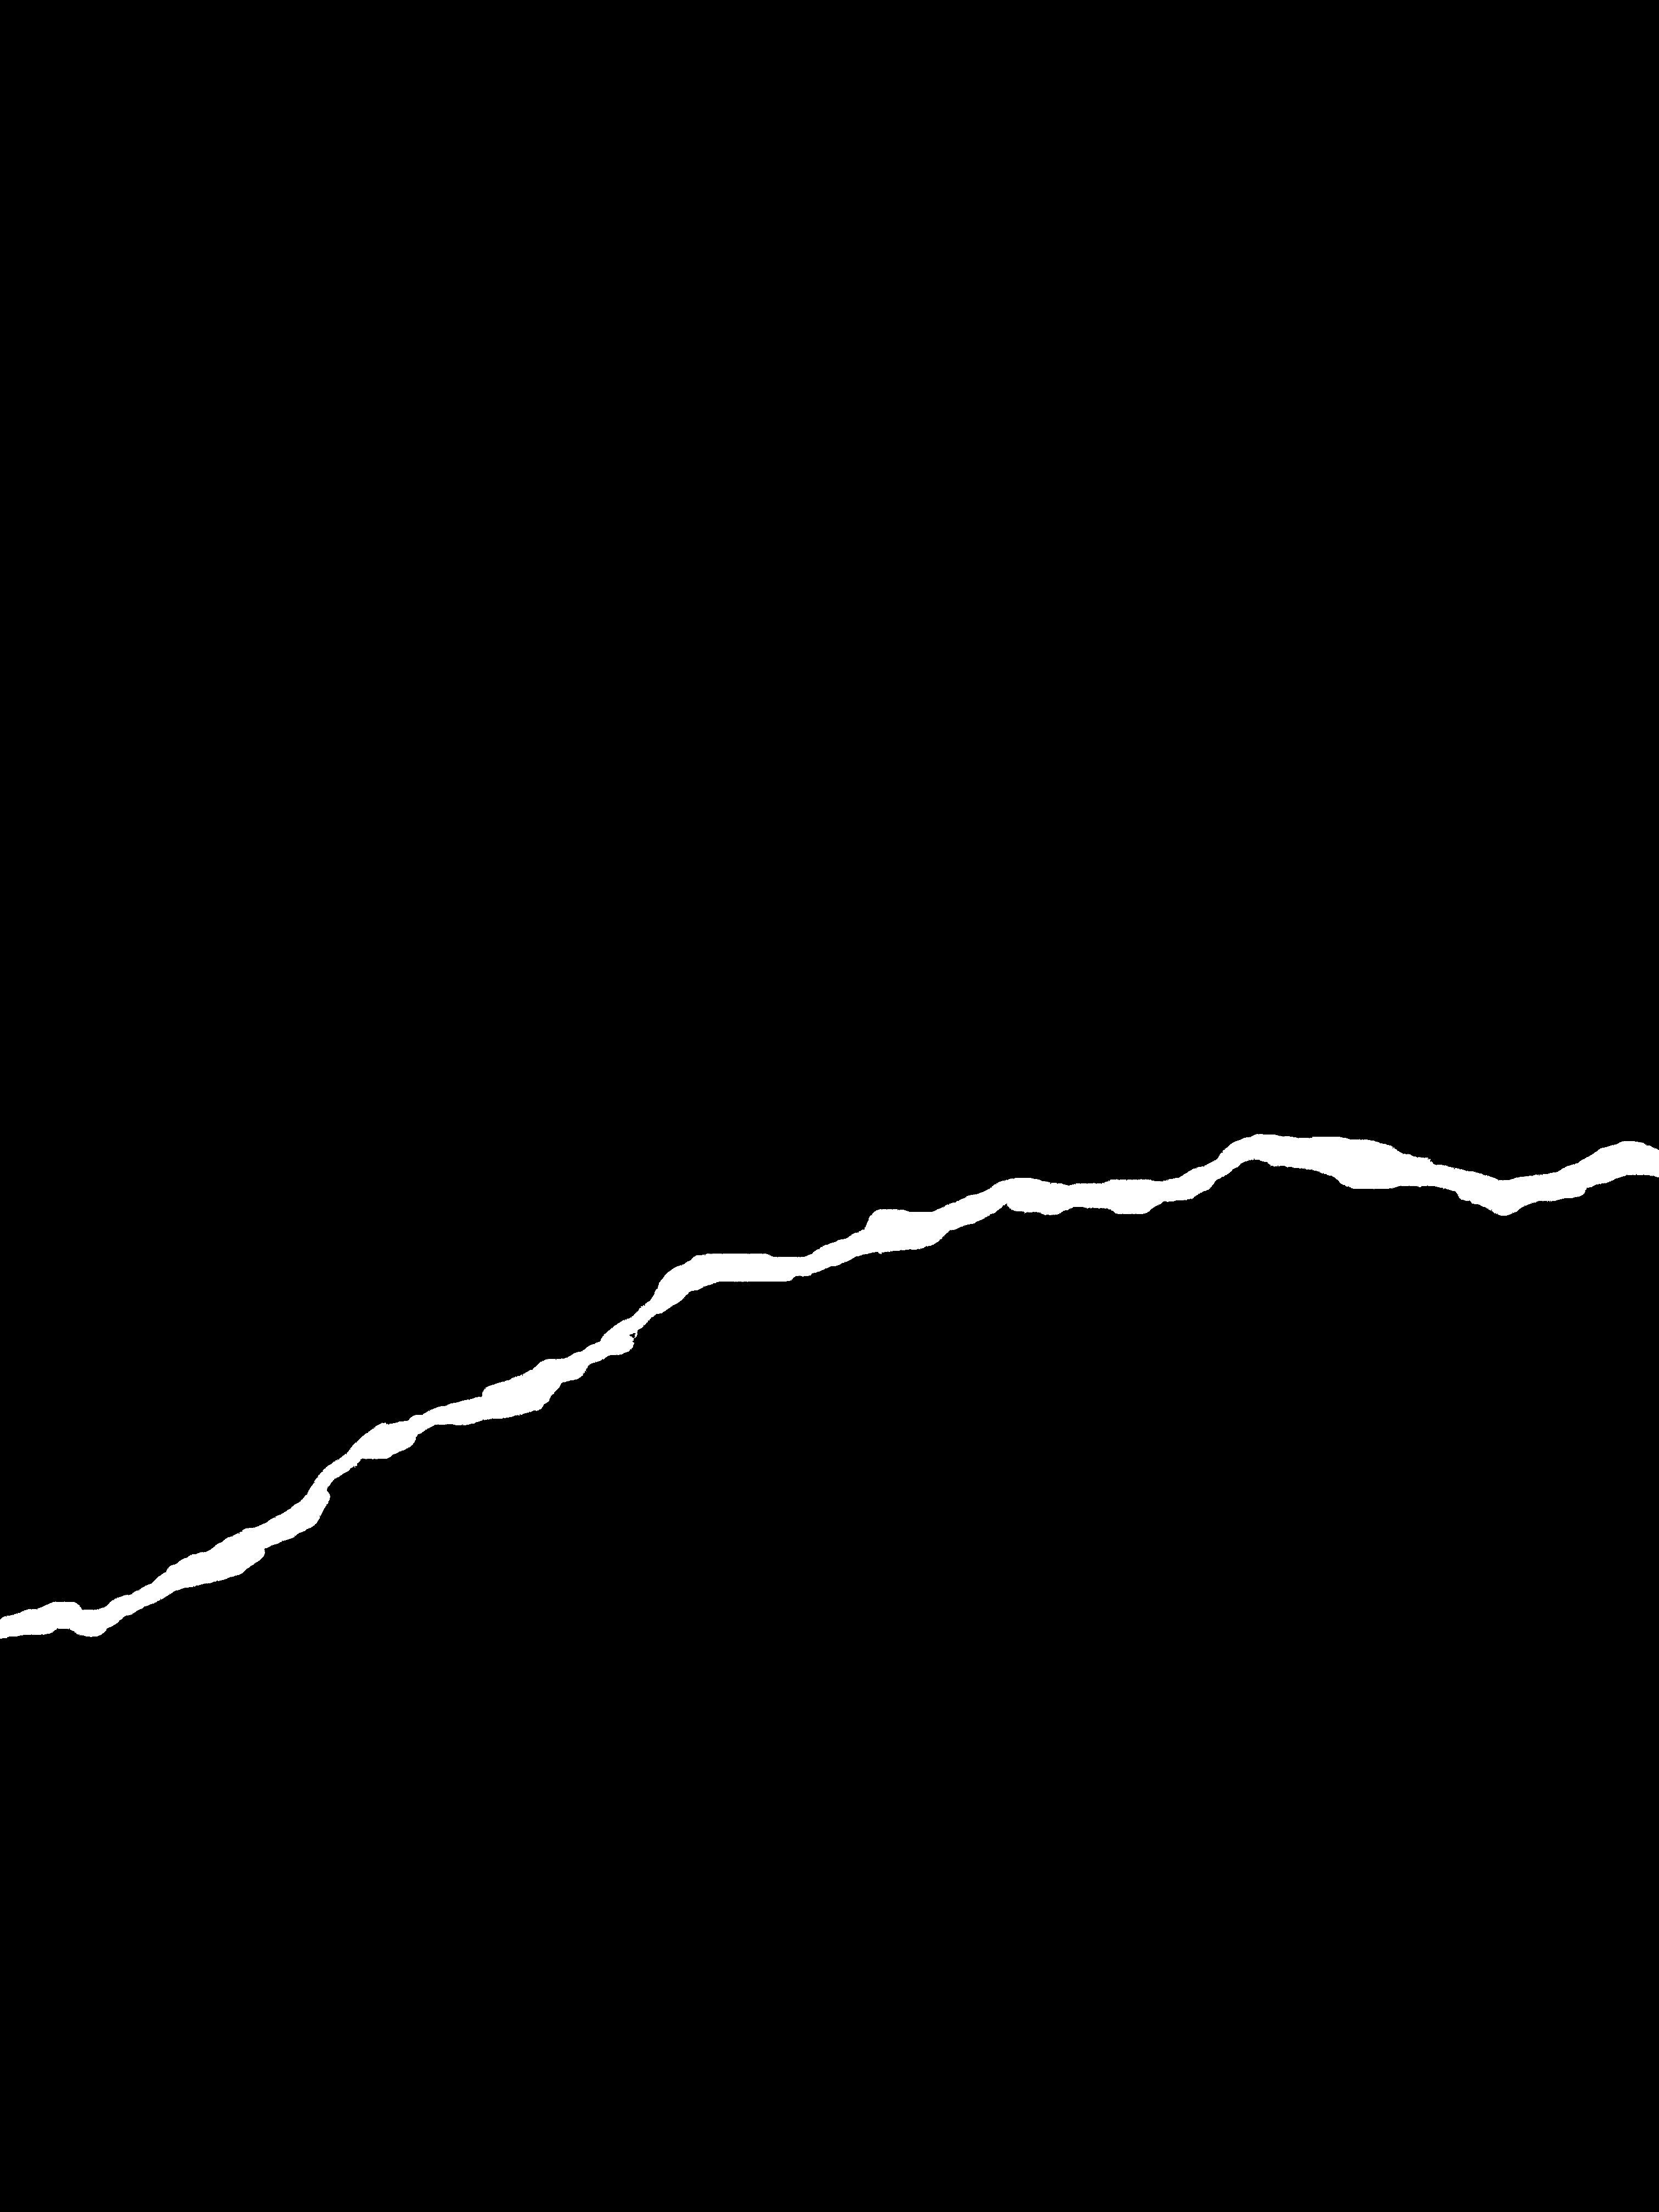Crack: (0, 1087, 1659, 1686)
